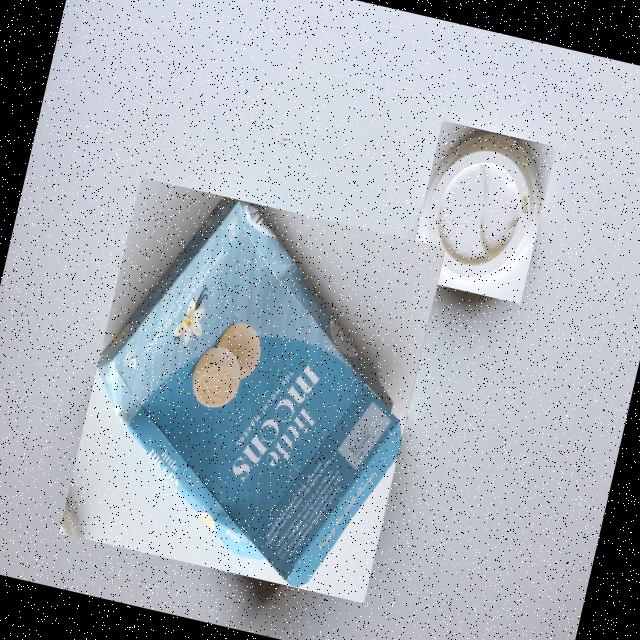Other carton: (98, 200, 402, 587)
Plastic lid: (422, 135, 542, 292)
